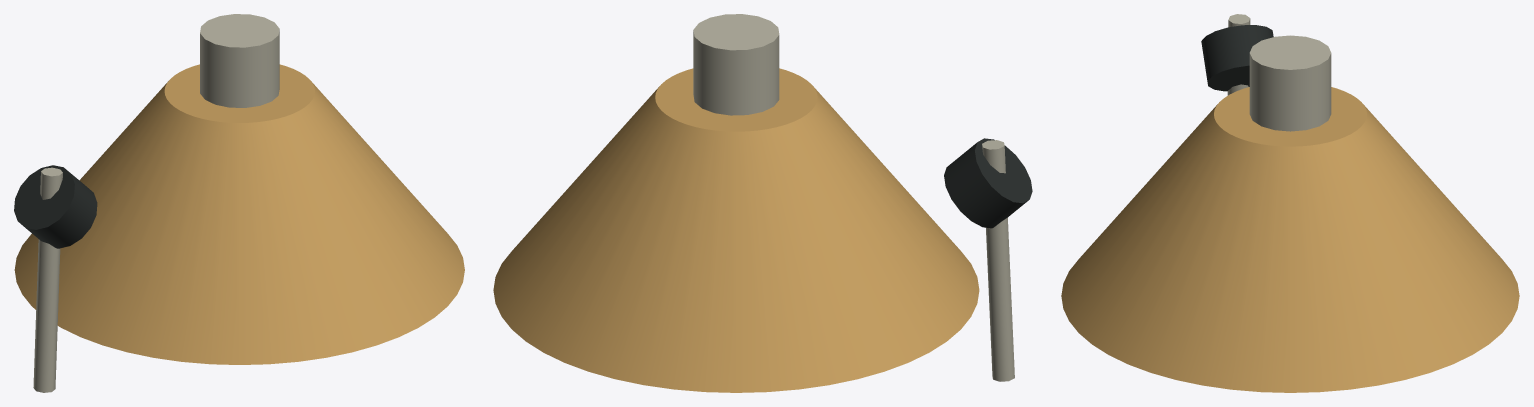
Rendered from Metropolitan.glb.
The picture shows the model from 3 angles, left to right: view 1: azimuth 30°, elevation 25°; view 2: azimuth 150°, elevation 25°; view 3: azimuth 270°, elevation 25°; orthographic projection. The views are drawn at different scales.
Parts seen in each view (by area): view 1: Bell skirt, Crown, Clapper, Striker spring; view 2: Bell skirt, Crown, Clapper, Striker spring; view 3: Bell skirt, Crown, Clapper.
Boxes of the visible parts, x1,y1,x2,y2 form: Bell skirt: (14,64,464,364); Crown: (200,14,279,107); Clapper: (14,165,97,248); Striker spring: (33,167,62,392); Bell skirt: (493,68,979,392); Crown: (693,14,779,115); Clapper: (944,138,1032,228); Striker spring: (982,140,1014,381); Bell skirt: (1061,87,1519,392); Crown: (1249,35,1331,131); Clapper: (1201,25,1273,91).
Size of the model in its own units: 0.5048 by 0.3133 by 0.4486.
